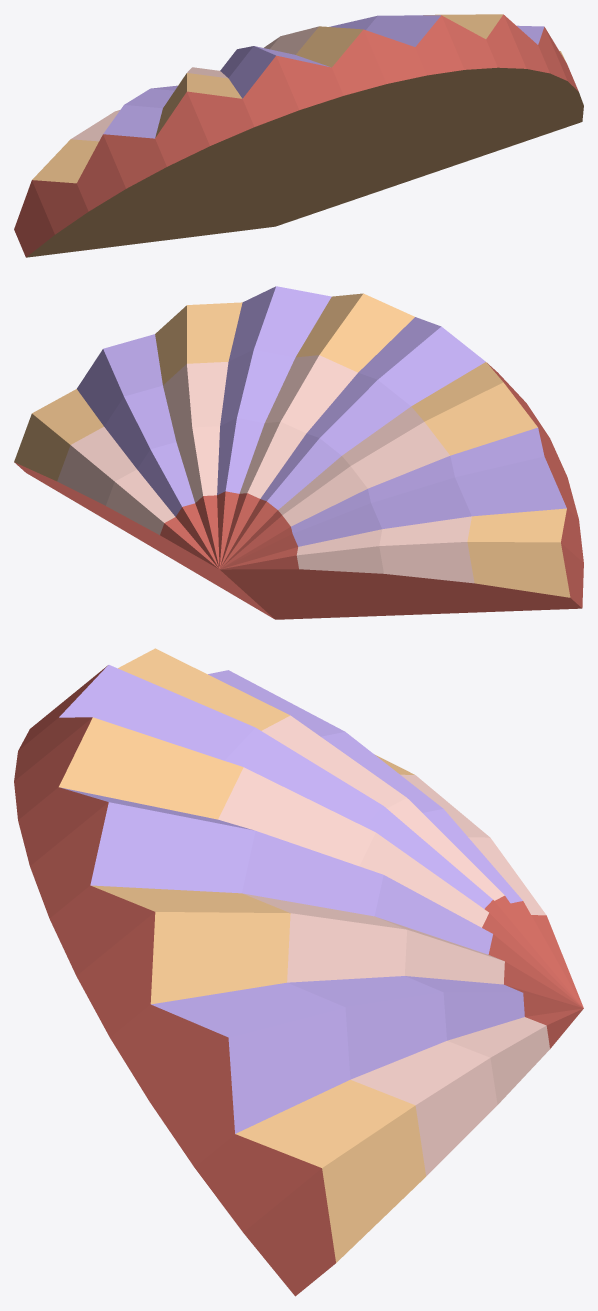
Rendered from deco_scallop.obj.
3 views of the same model, one above another, from view 1: azimuth 30°, elevation 25°; view 2: azimuth 150°, elevation 25°; view 3: azimuth 270°, elevation 25° (orthographic). The views are drawn at different scales.
Parts seen in each view (by area): view 1: deco_scallop; view 2: deco_scallop; view 3: deco_scallop.
Boxes of the visible parts, box(x1,y1,x2,y2) form: deco_scallop: box(14, 14, 583, 257); deco_scallop: box(14, 286, 583, 619); deco_scallop: box(14, 648, 583, 1296).
Size of the model in its own units: 0.0599 by 0.0269 by 0.0311.
Materials: 1 (1 with a texture image).
